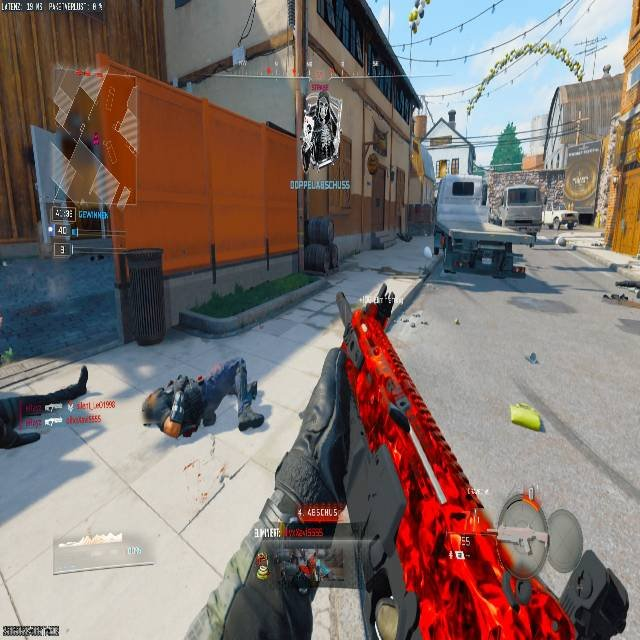head: (141, 378, 207, 439), (140, 387, 171, 425)
player: (525, 221, 538, 248)
